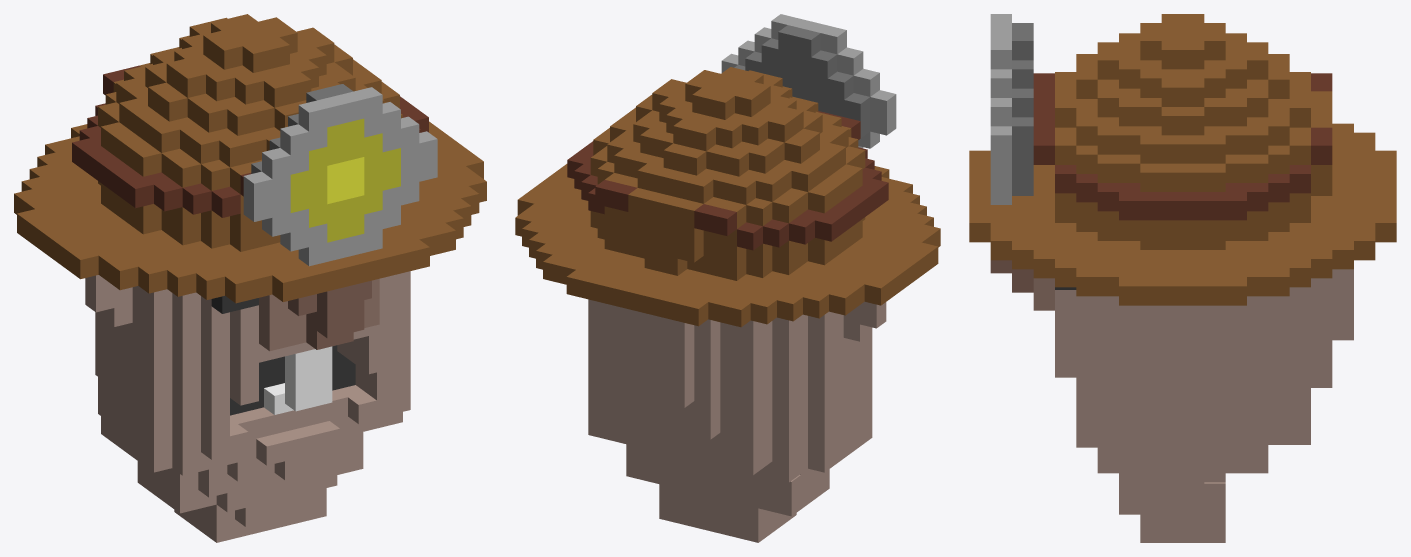
The model's file is Mole Face.obj.
3 views of the same model, side by side, from view 1: azimuth 30°, elevation 25°; view 2: azimuth 150°, elevation 25°; view 3: azimuth 270°, elevation 25° (orthographic). The views are drawn at different scales.
Size of the model in its own units: 2.2 by 2.5 by 2.
Materials: 1 (1 with a texture image).
